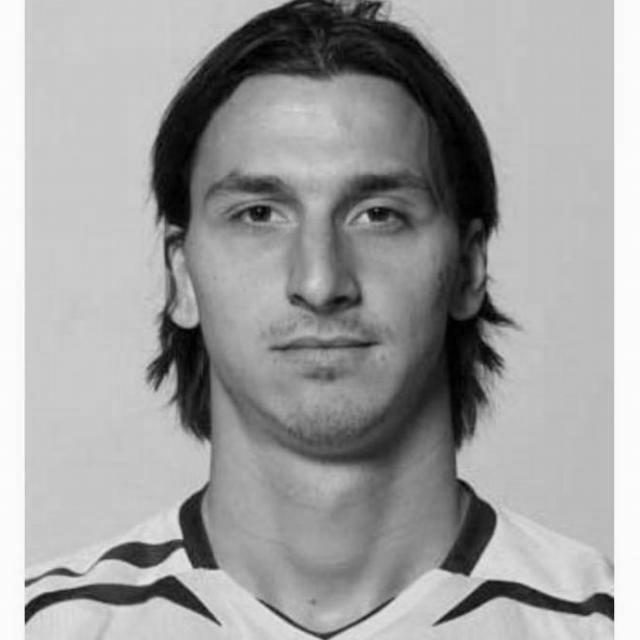real: (158, 37, 490, 471)
